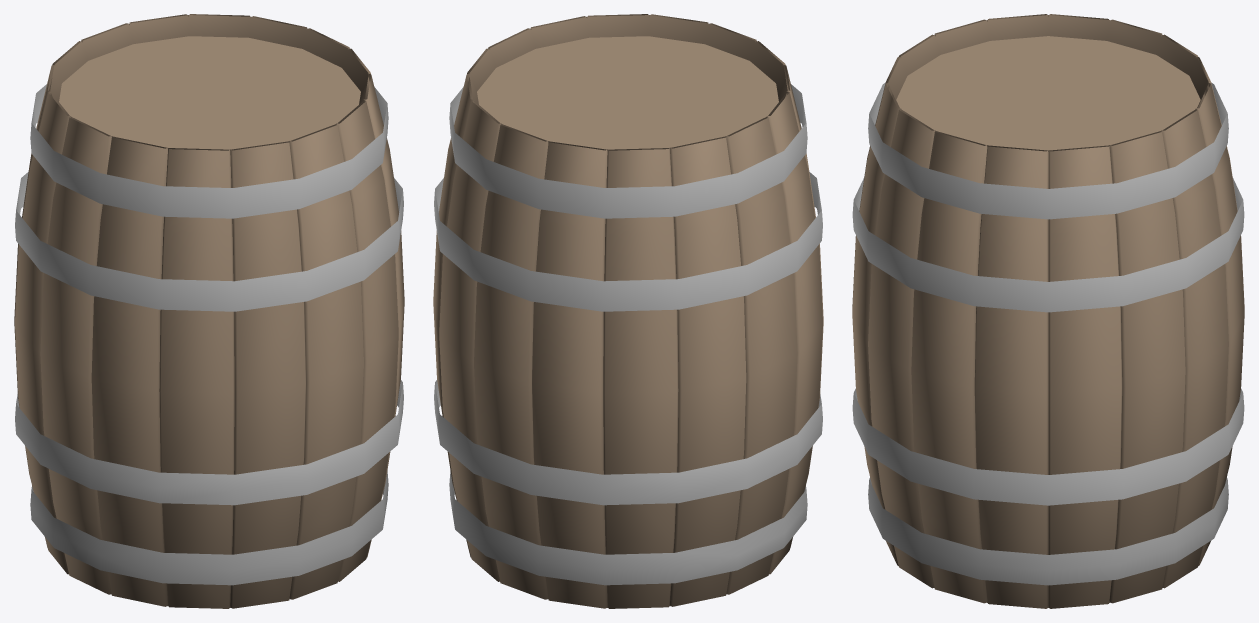
The model's file is barrel.glb.
3 views of the same model, side by side, from view 1: azimuth 30°, elevation 25°; view 2: azimuth 150°, elevation 25°; view 3: azimuth 270°, elevation 25° (orthographic).
Visible parts, largest first — view 1: barrel; view 2: barrel; view 3: barrel.
Part boxes in pixels (x1,y1,x2,y2): barrel: (14, 14, 404, 608); barrel: (433, 14, 823, 608); barrel: (852, 14, 1244, 608).
Size of the model in its own units: 0.6999 by 0.9 by 0.6999.
